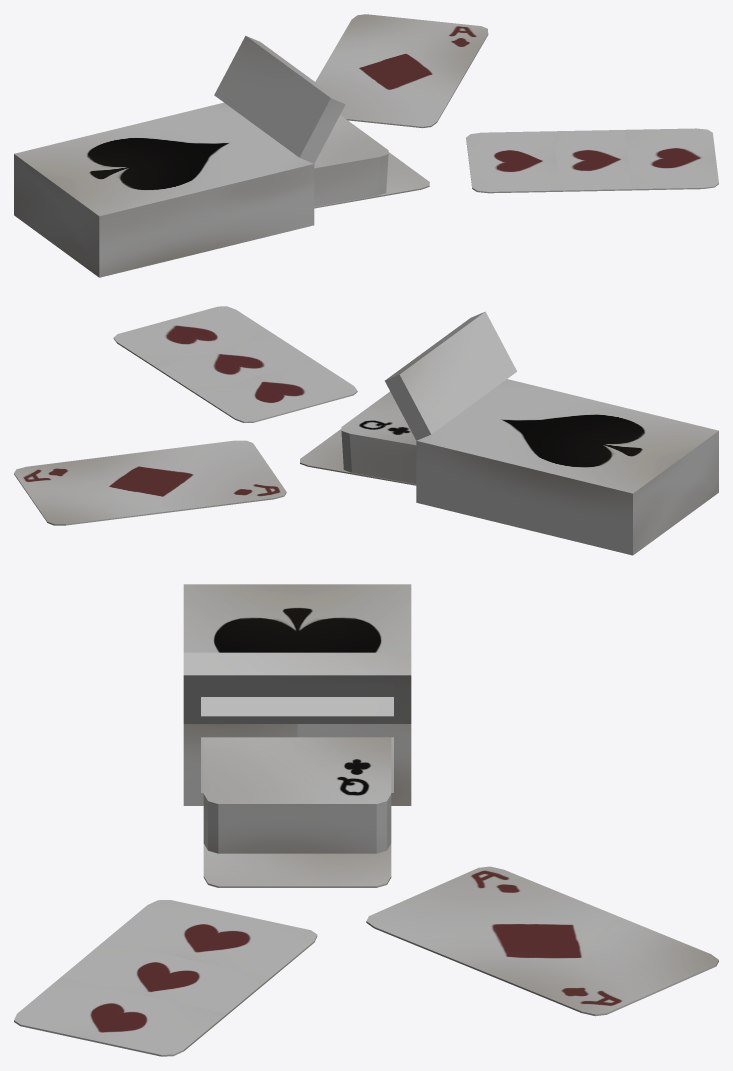
The model's file is korttipakka.fbx.
3 renders of one model, top to bottom at view 1: azimuth 30°, elevation 25°; view 2: azimuth 150°, elevation 25°; view 3: azimuth 270°, elevation 25°, orthographic. The views are drawn at different scales.
Parts seen in each view (by area): view 1: korttipaketti, kortit; view 2: korttipaketti, kortit; view 3: kortit, korttipaketti.
Part boxes in pixels (x1,y1,x2,y2): korttipaketti: [14, 35, 345, 277]; kortit: [314, 14, 718, 208]; korttipaketti: [385, 311, 718, 555]; kortit: [14, 306, 416, 525]; kortit: [14, 737, 718, 1056]; korttipaketti: [183, 584, 411, 805].
Size of the model in its own units: 43.95 by 8.55 by 33.28.
